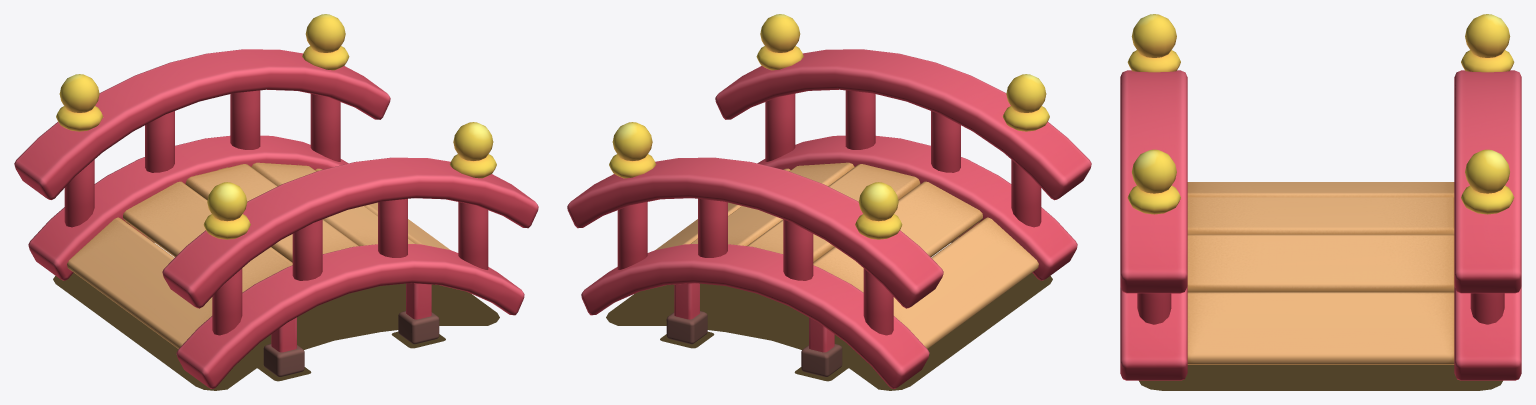
File: JpBrige01.fbx
3 renders of one model, left to right at view 1: azimuth 30°, elevation 25°; view 2: azimuth 150°, elevation 25°; view 3: azimuth 270°, elevation 25°, orthographic. The views are drawn at different scales.
Visible parts, largest first — view 1: polySurface10, polySurface5, polySurface34; view 2: polySurface10, polySurface5, polySurface34; view 3: polySurface10, polySurface5.
Boxes of the visible parts, bbox=[...] form: polySurface10: bbox=[14, 14, 538, 388]; polySurface5: bbox=[53, 273, 499, 390]; polySurface34: bbox=[127, 223, 439, 376]; polySurface10: bbox=[567, 14, 1091, 388]; polySurface5: bbox=[606, 273, 1052, 390]; polySurface34: bbox=[666, 223, 978, 376]; polySurface10: bbox=[1120, 14, 1521, 380]; polySurface5: bbox=[1139, 365, 1502, 390].
Size of the model in its own units: 329 by 178 by 288.
